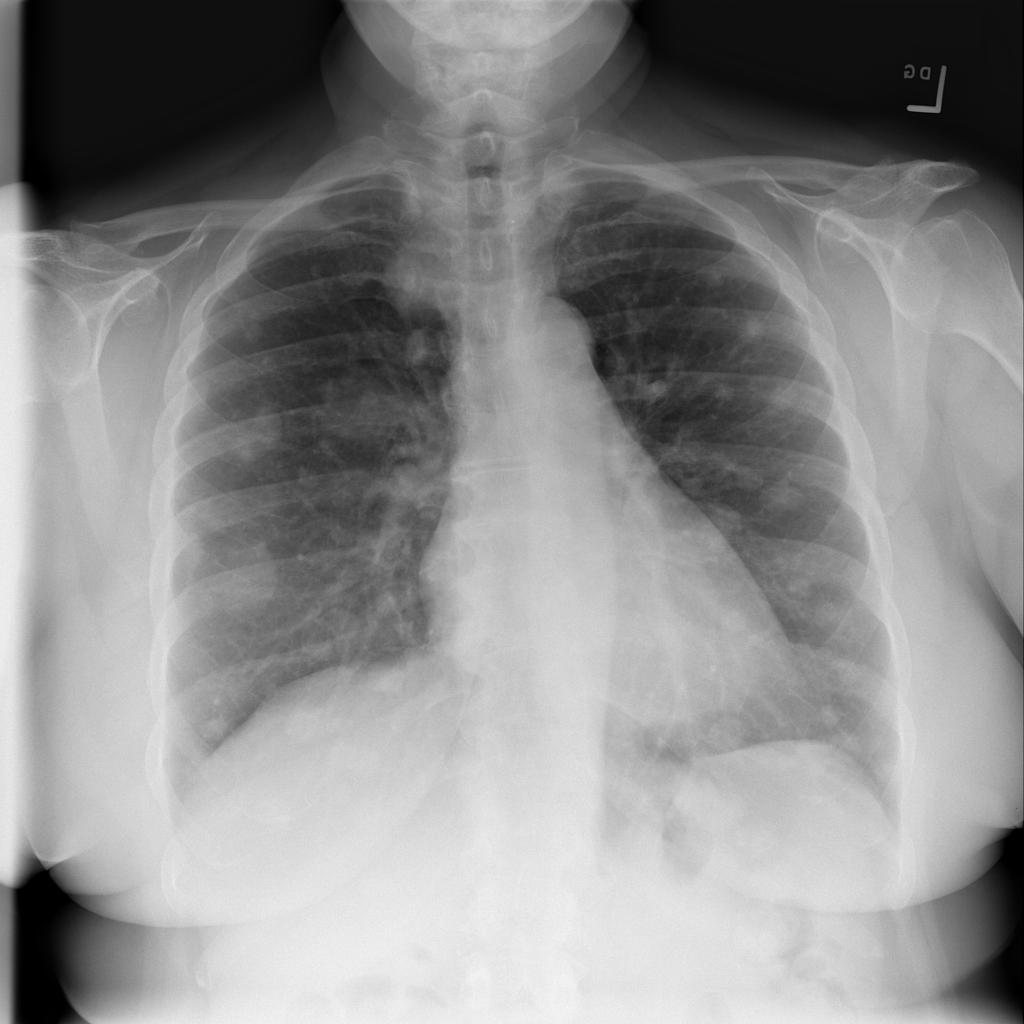nodule: (188, 523, 292, 637), (317, 369, 410, 455), (215, 390, 293, 471), (667, 767, 751, 842), (270, 691, 348, 760), (747, 361, 824, 427), (680, 494, 755, 561), (799, 586, 869, 656), (322, 725, 394, 793), (692, 702, 766, 765), (720, 446, 788, 513), (756, 475, 817, 519), (706, 600, 758, 651), (225, 308, 280, 355), (774, 562, 830, 607), (297, 623, 347, 673), (805, 695, 857, 743), (191, 700, 244, 747), (697, 367, 749, 414), (289, 249, 344, 293), (687, 255, 742, 299), (826, 657, 879, 702), (726, 304, 776, 348)
